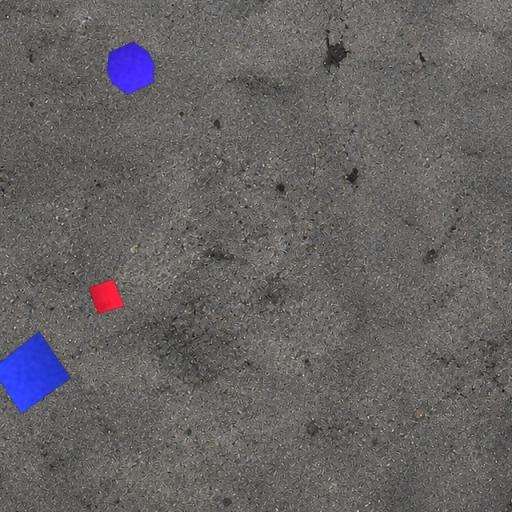BLUE_SQUARE: (0, 330, 71, 414)
RED_SQUARE: (88, 278, 125, 316)
